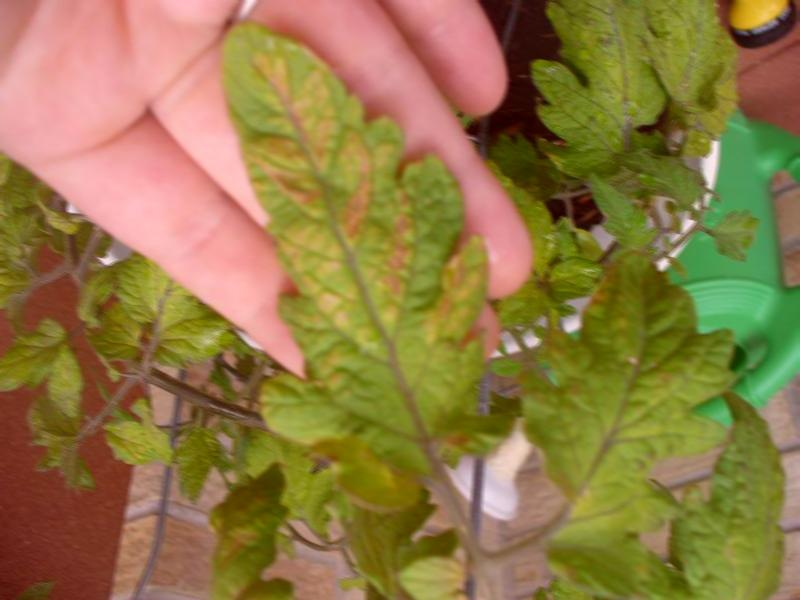Tomato leaf bacterial spot: (203, 17, 501, 511), (507, 235, 699, 575)
